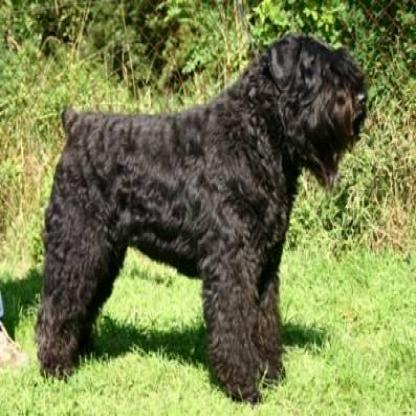Bouvier_des_Flandres: (32, 29, 370, 405)
